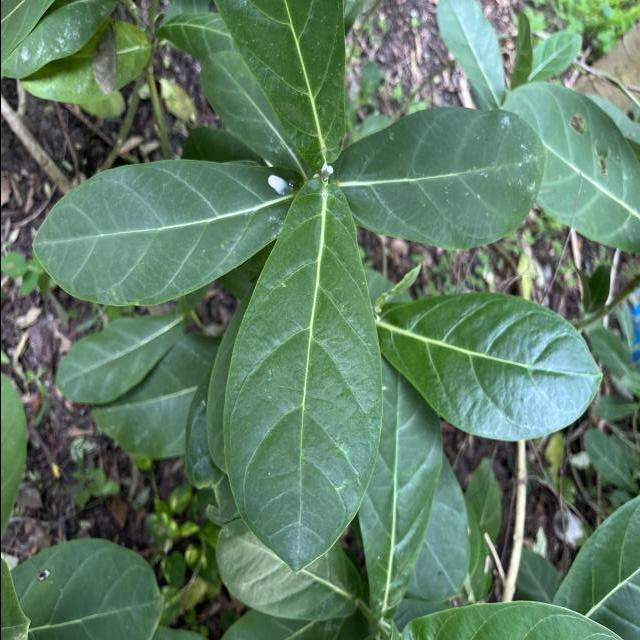Calotropis gigantea: (220, 176, 383, 576), (29, 158, 304, 310), (378, 291, 603, 444), (337, 104, 547, 253), (508, 80, 640, 256), (12, 536, 168, 640), (54, 309, 189, 406)
